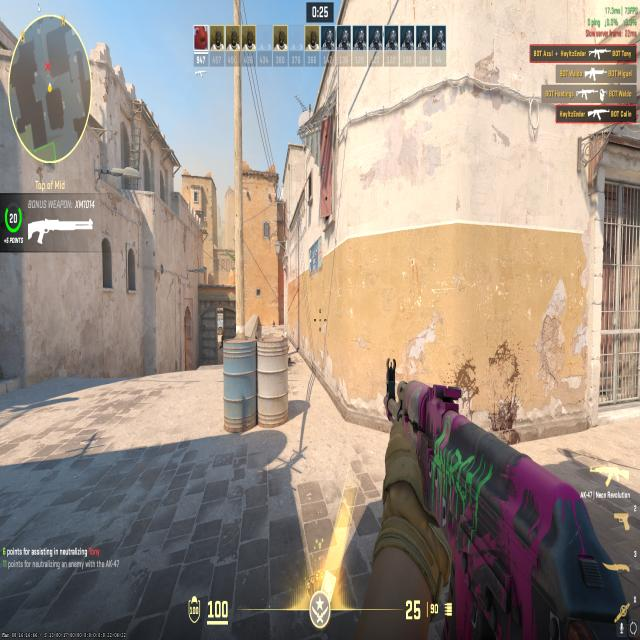ct: (219, 327, 224, 351)
